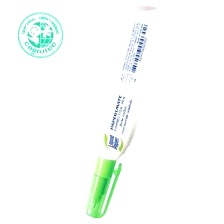correction_fluid: (82, 6, 155, 220)
